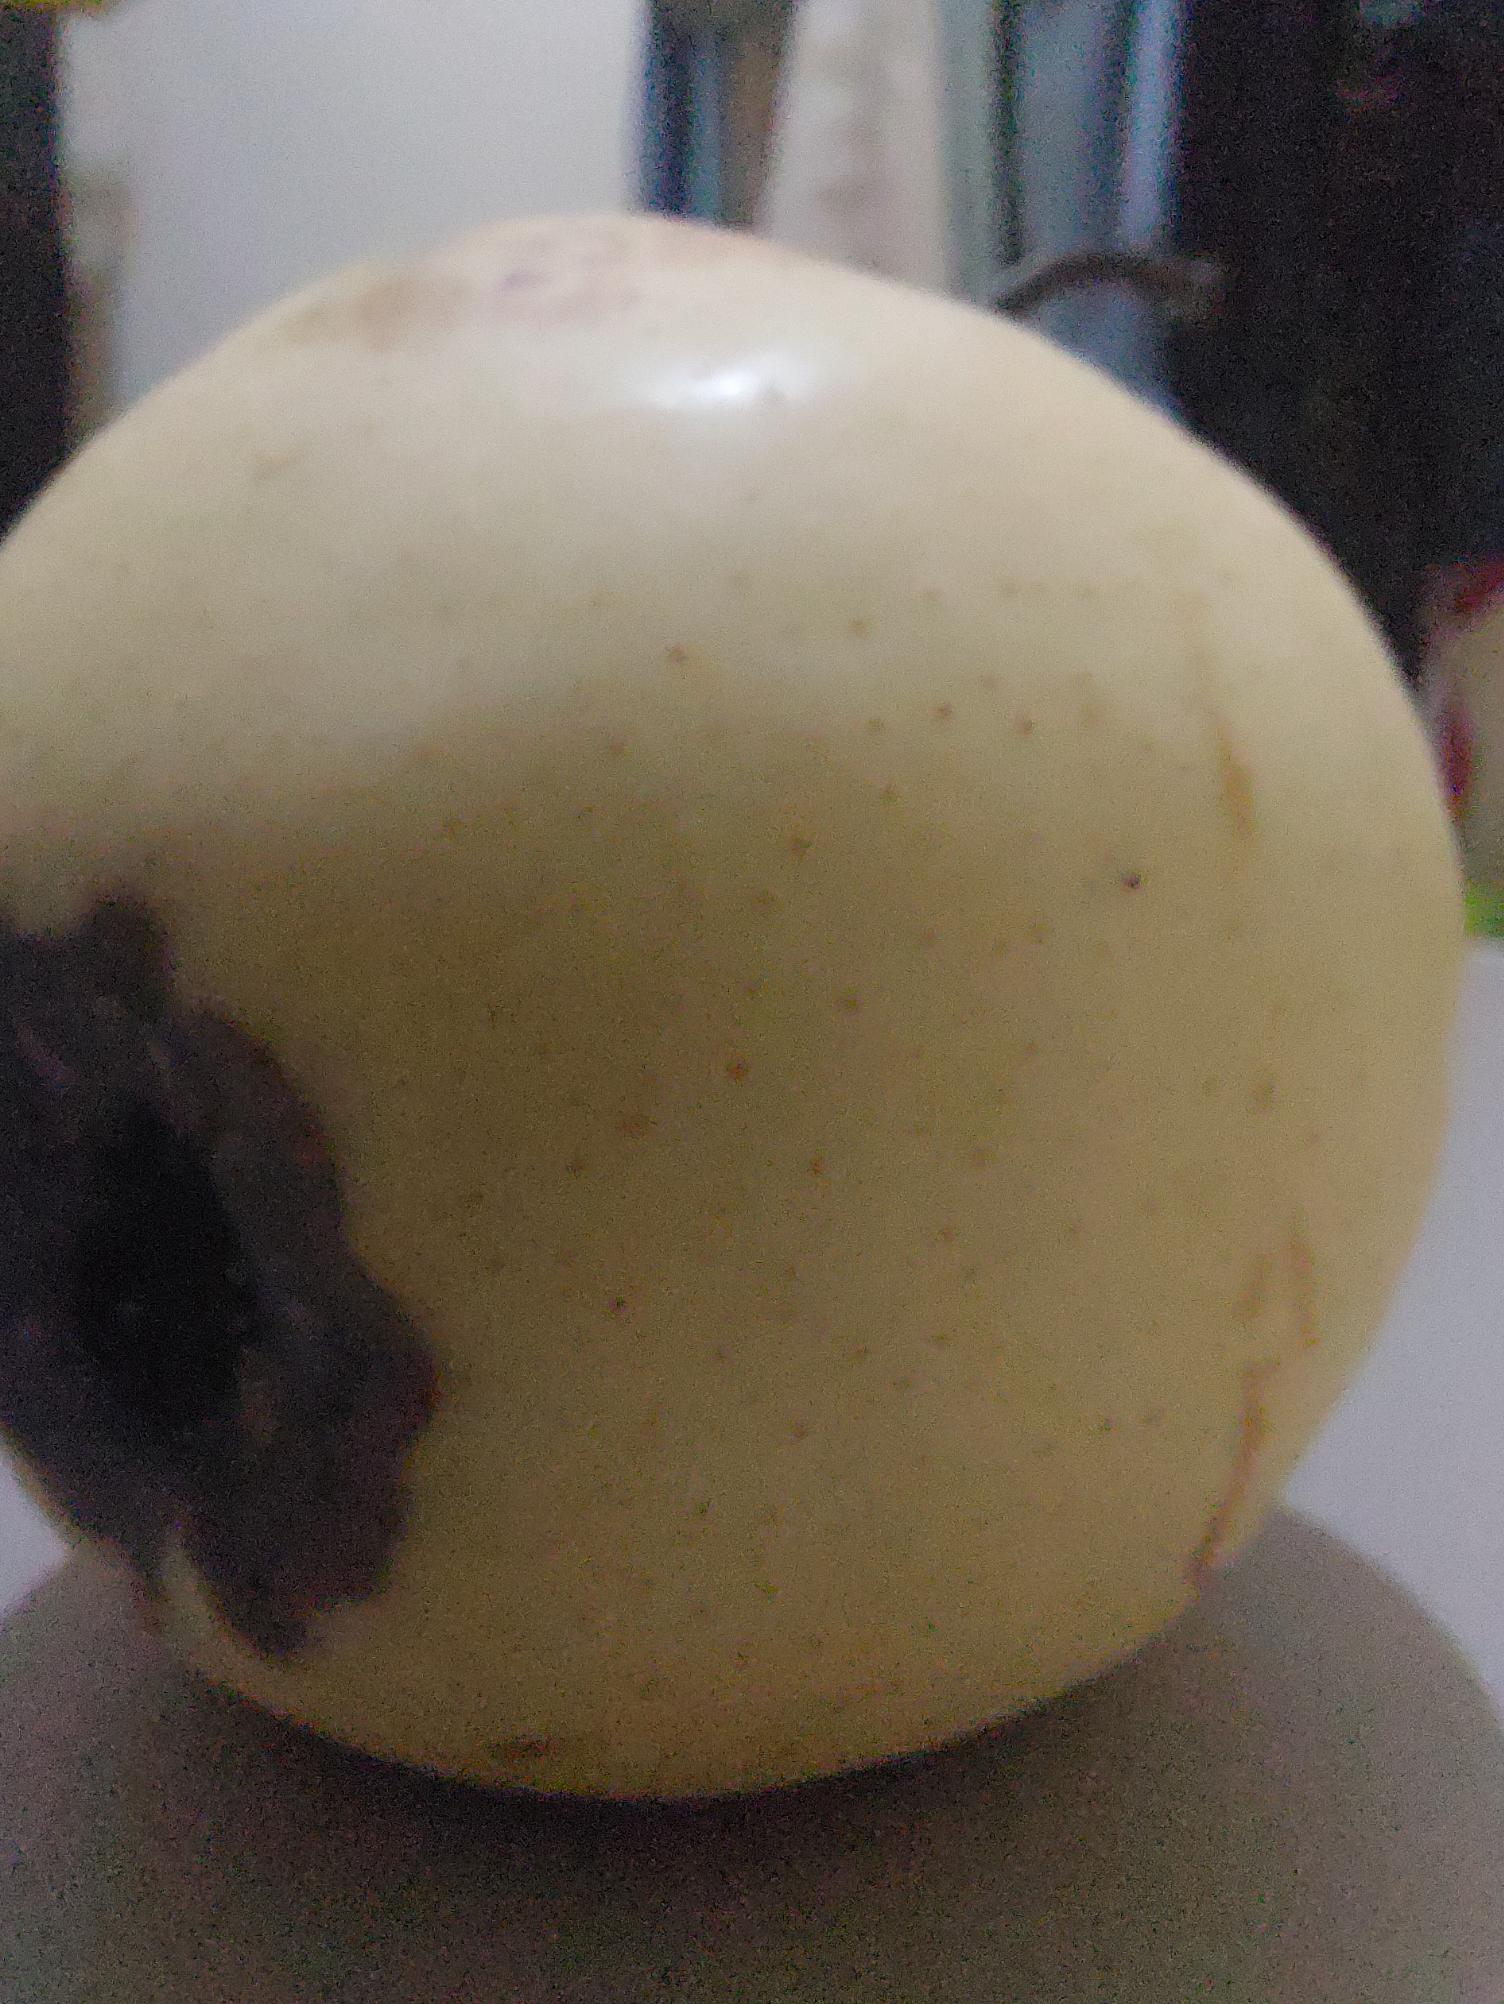Bad Pear: (0, 193, 1480, 1846)
